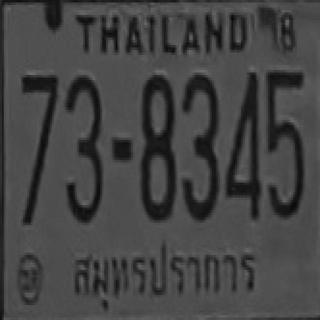N03: (180, 74, 219, 219), (64, 74, 102, 221)
N04: (224, 71, 260, 216)
N07: (19, 72, 58, 165), (19, 74, 58, 154)
N08: (139, 74, 174, 219)
P57: (67, 238, 262, 308)
